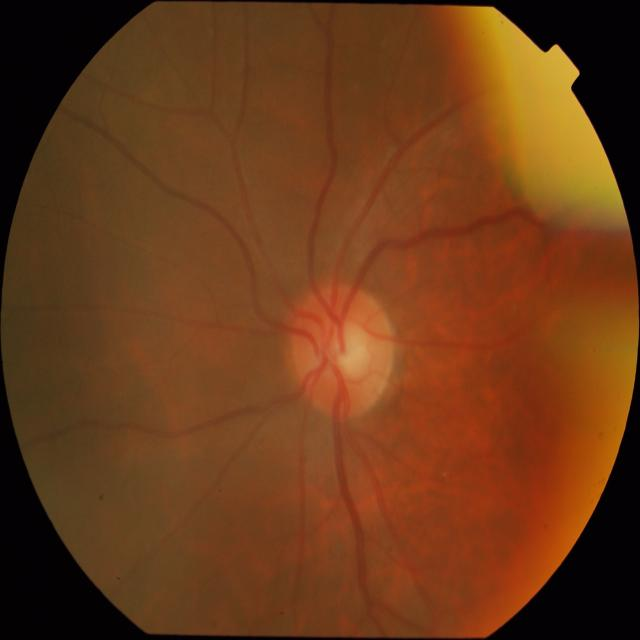OC: (327, 324, 372, 382)
OD: (288, 284, 396, 416)
